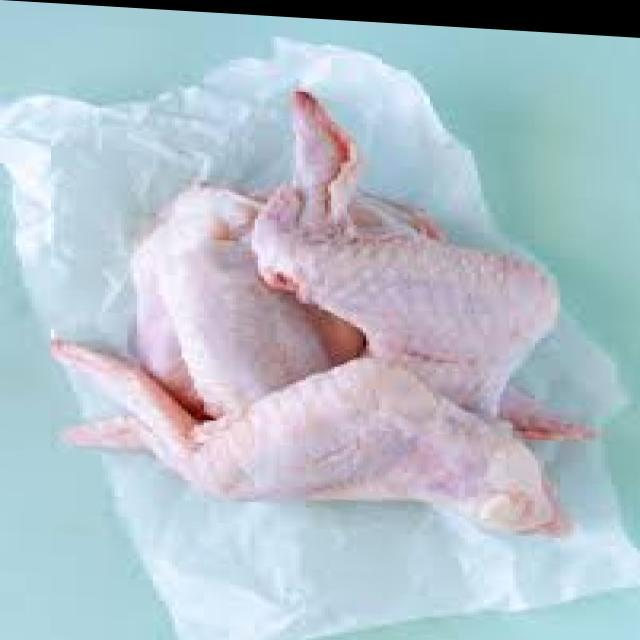wing: (25, 304, 540, 550), (249, 78, 549, 426), (124, 156, 318, 394)
